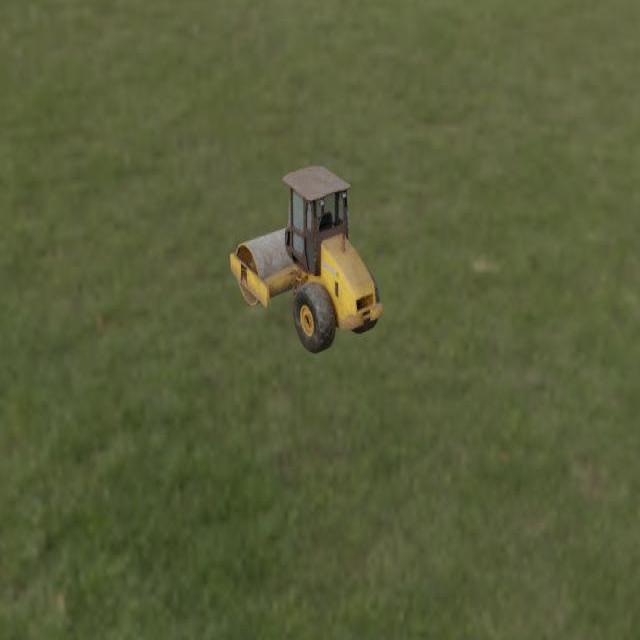Roller: (229, 165, 382, 354)
